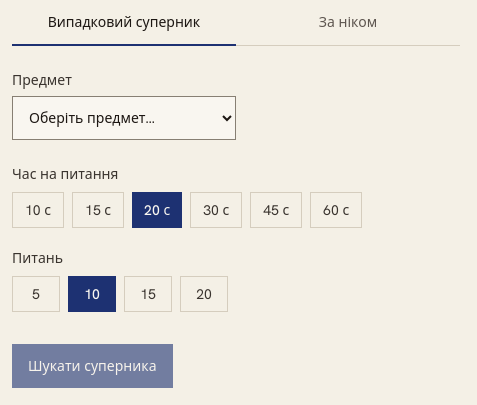
Test: LivePlaySection › switches off a time that no question of the subject fits
The width and height of the screenshot is (477, 405).
Select "Математика" in the dropdown labelled "Предмет" at (124, 118), box [12,96,236,140]
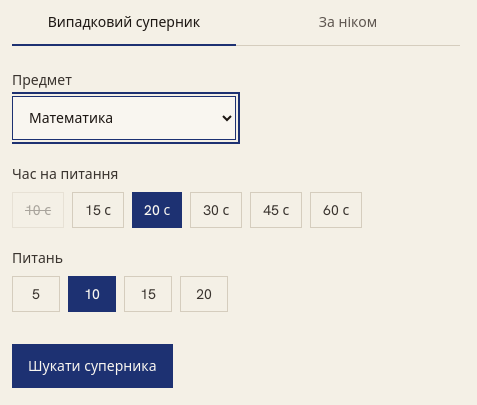
expect the button "20 с" is enabled: met, box [132,192,182,228]
expect the button "10 с" is disabled: met, box [12,192,64,228]
